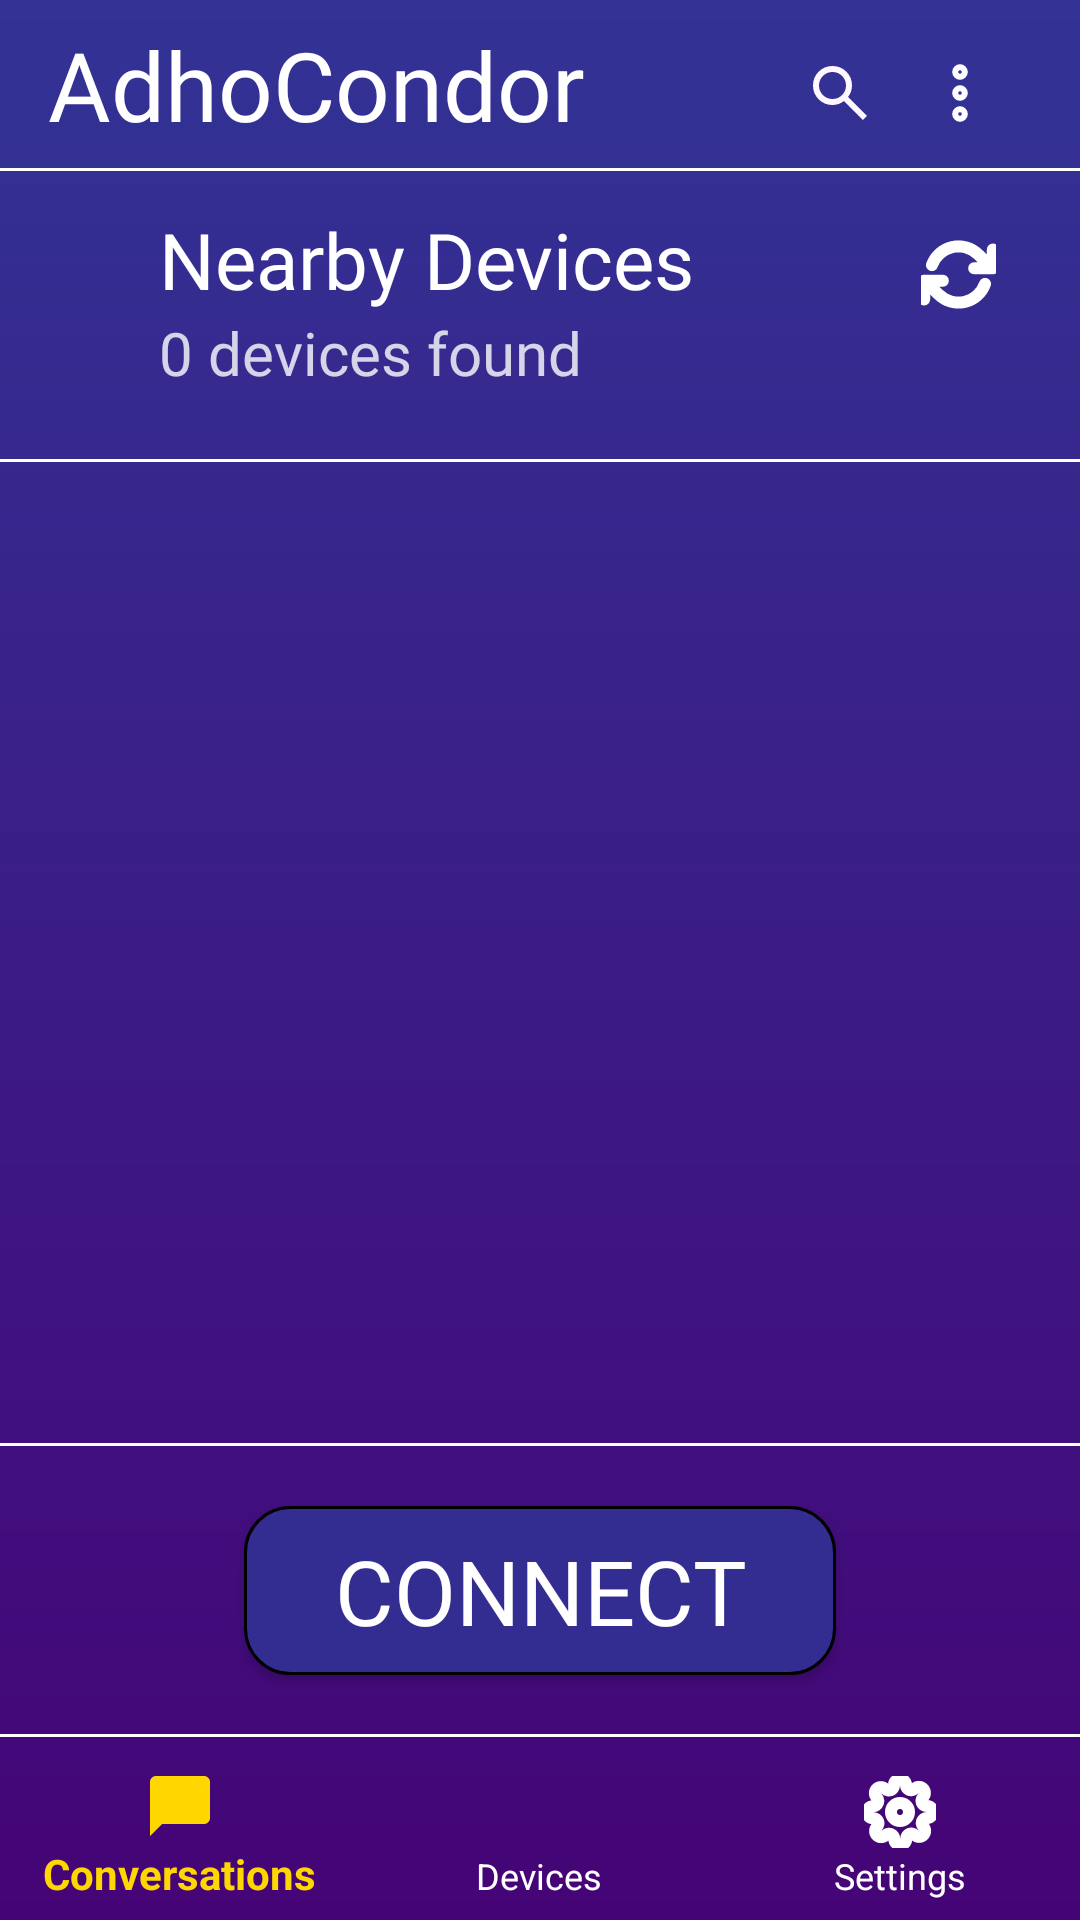

Point at icon controls on the screen. Image size 1080w x 1920h, points as (x,y).
more vertical: (960,93)
refresh: (958,274)
search: (840,93)
